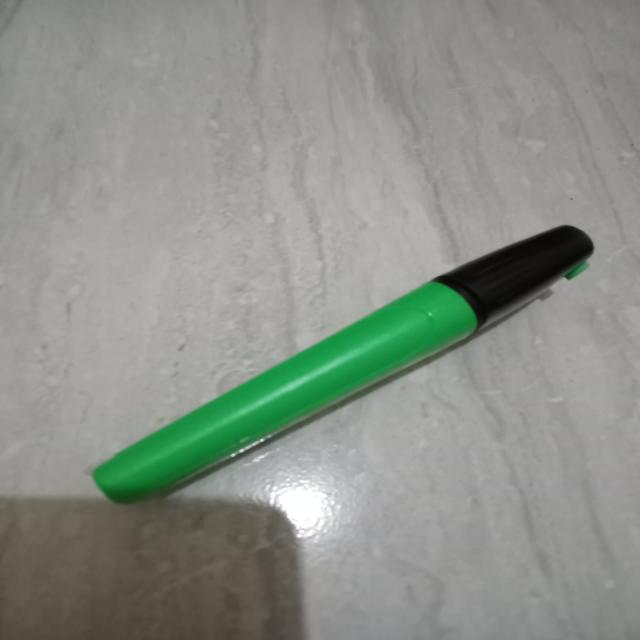highlighter: (64, 212, 619, 508)
